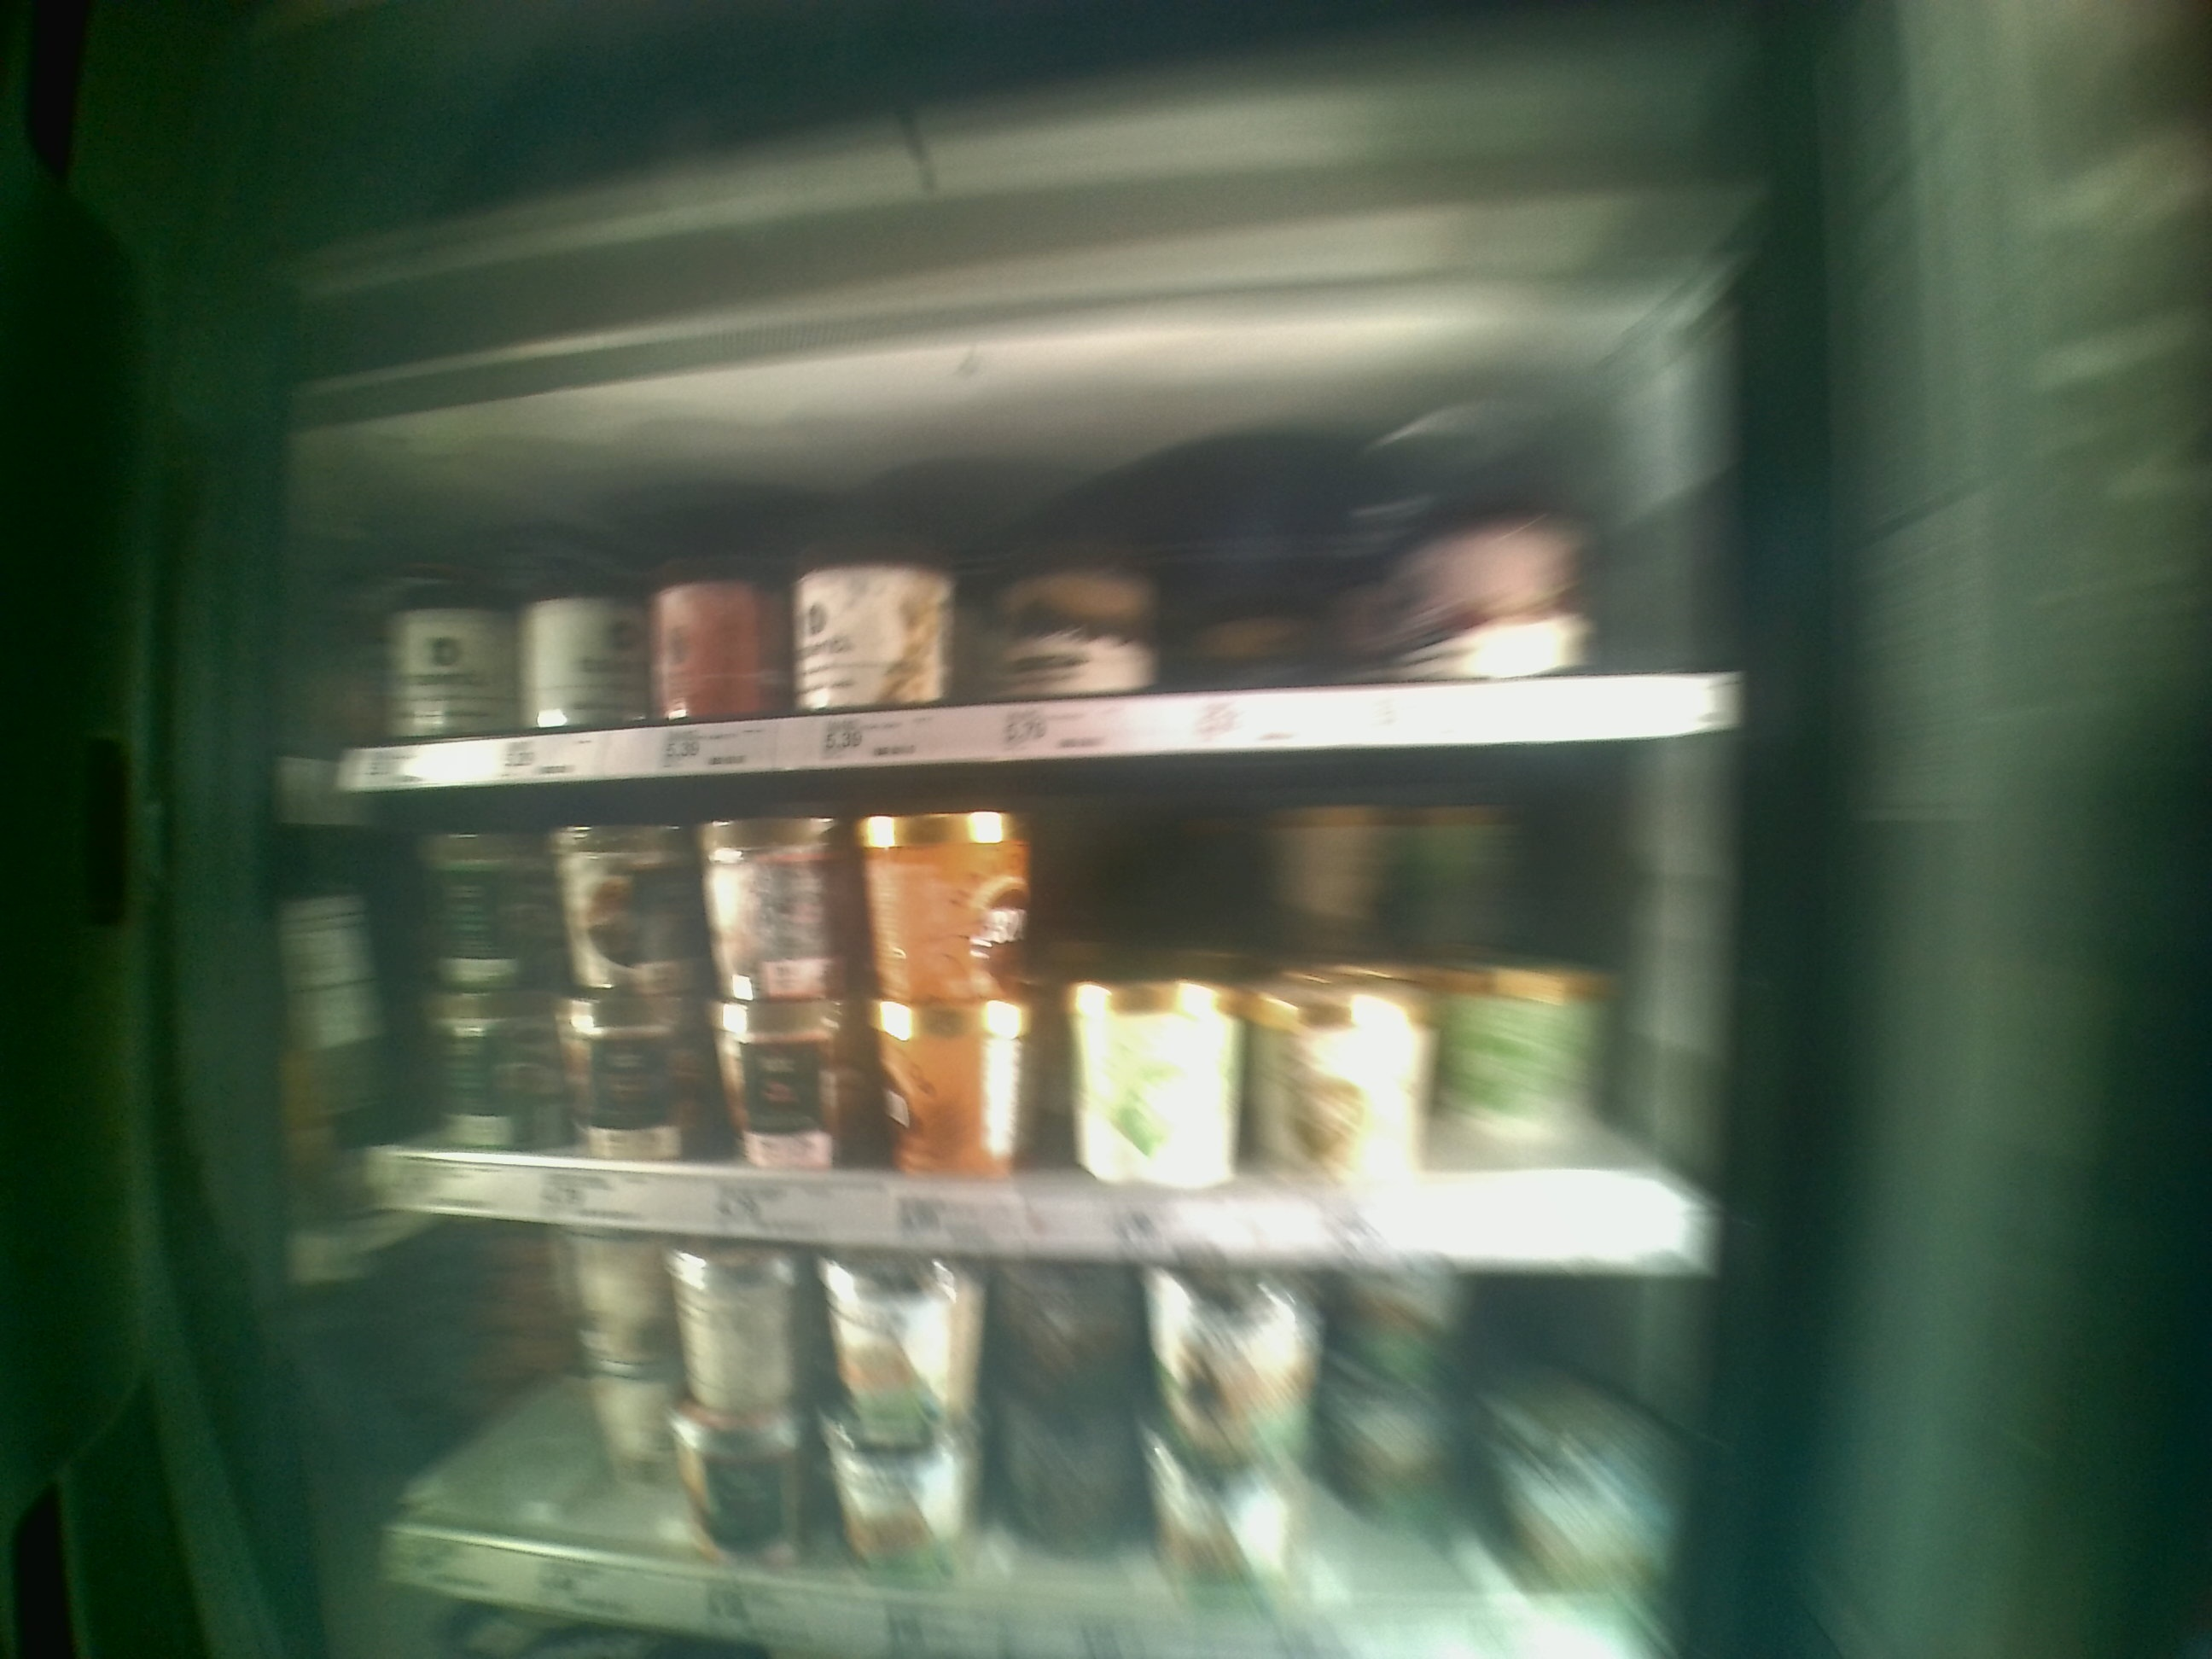shelf: (359, 728, 1743, 1279), (354, 376, 1735, 788)
